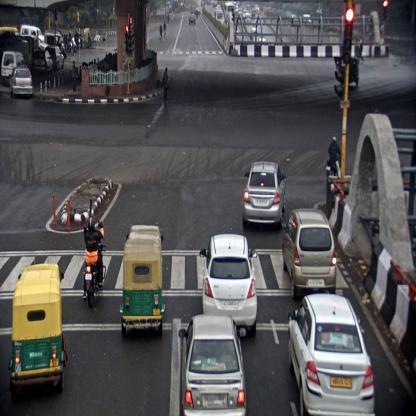car: (286, 292, 376, 415), (178, 313, 247, 415), (200, 232, 258, 340), (282, 207, 336, 302), (243, 160, 286, 229), (10, 66, 33, 100), (2, 51, 25, 83)
motorcycle: (82, 216, 106, 309), (326, 134, 340, 176)
